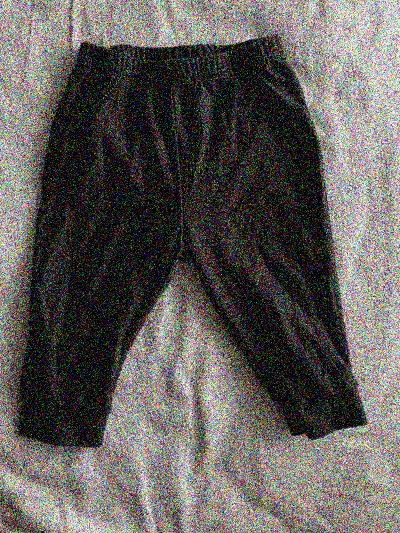Pants: (13, 20, 382, 451)
